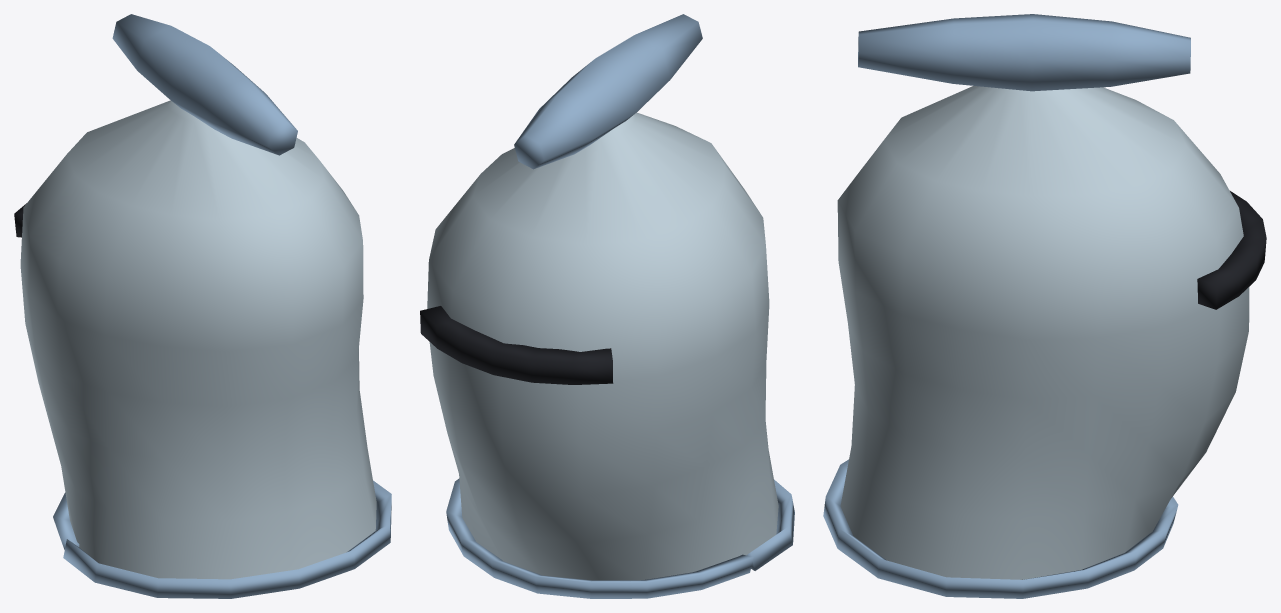
Rendered from platinum_helmet.glb.
3 renders of one model, left to right at view 1: azimuth 30°, elevation 25°; view 2: azimuth 150°, elevation 25°; view 3: azimuth 270°, elevation 25°, orthographic. The views are drawn at different scales.
Visible parts, largest first — view 1: platinum_helmet_head; view 2: platinum_helmet_head; view 3: platinum_helmet_head.
Part boxes in pixels (x1,y1,x2,y2): platinum_helmet_head: (14,14,391,598); platinum_helmet_head: (420,14,794,598); platinum_helmet_head: (823,14,1266,598).
Bounding box in the file's own units: 0.2317 × 0.3538 × 0.2801.
